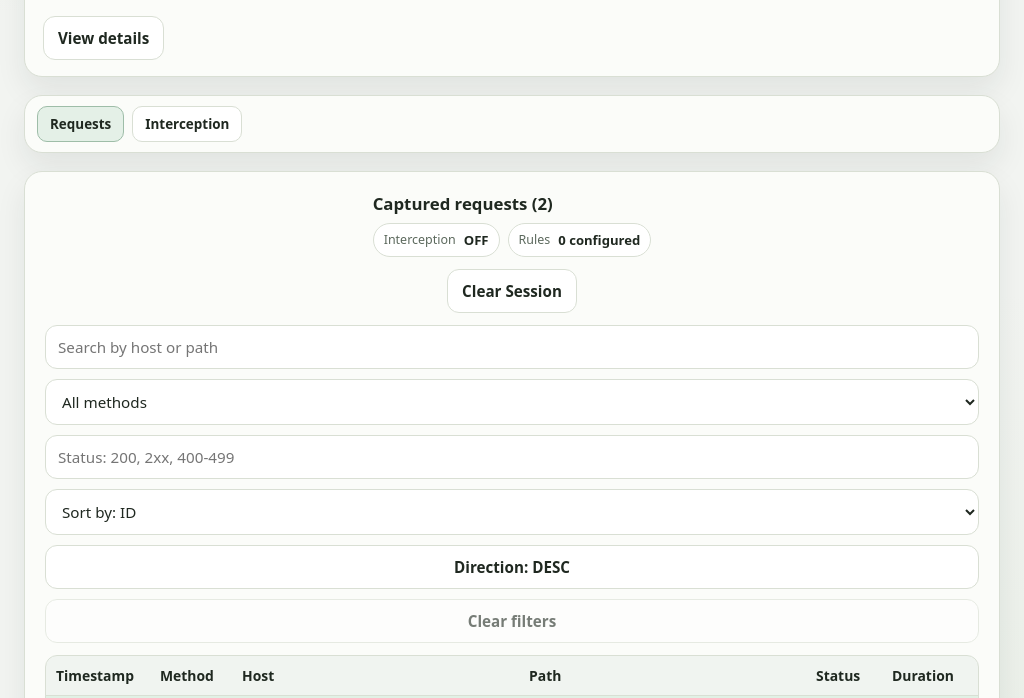
Test: App › applies combined filters and allows clearing them
(page scrolled)
Type "auth" into the field named "Host/path text filter" at x=512, y=347, box [45,325,979,369]
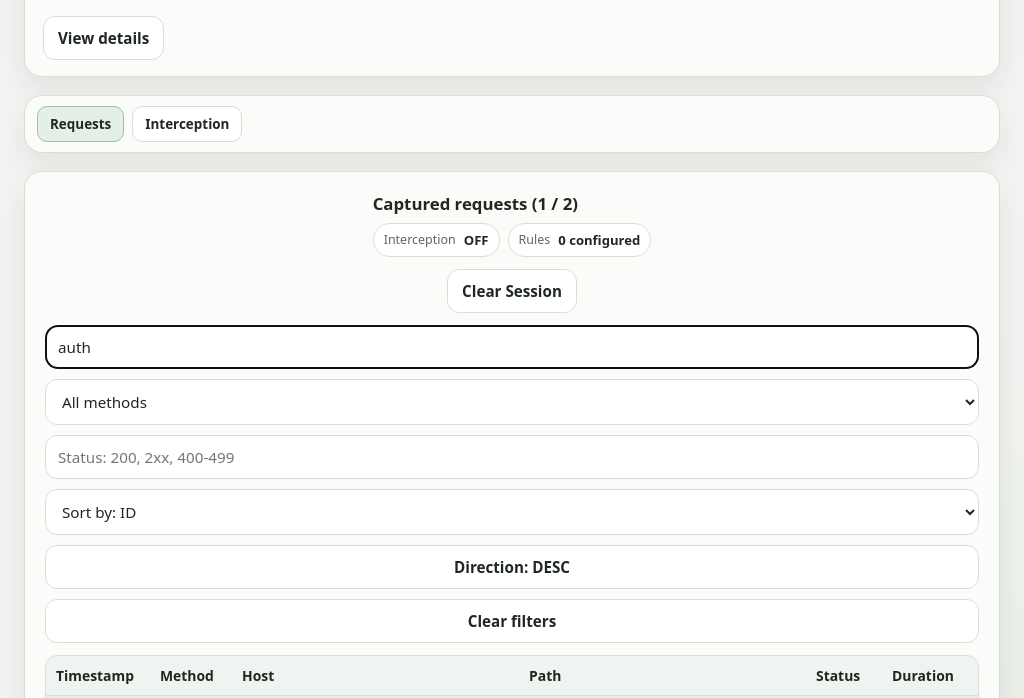
Select "POST" in the dropdown named "HTTP method filter" at x=512, y=402, box [45,379,979,425]
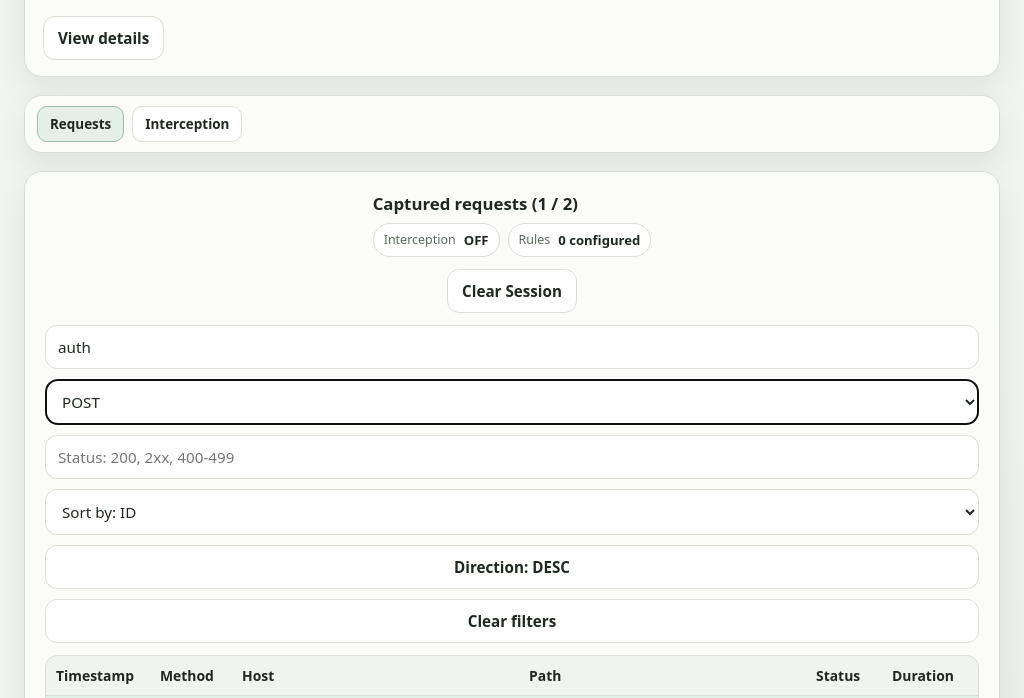
Type "401" into the field named "Status code filter" at x=512, y=457, box [45,435,979,479]
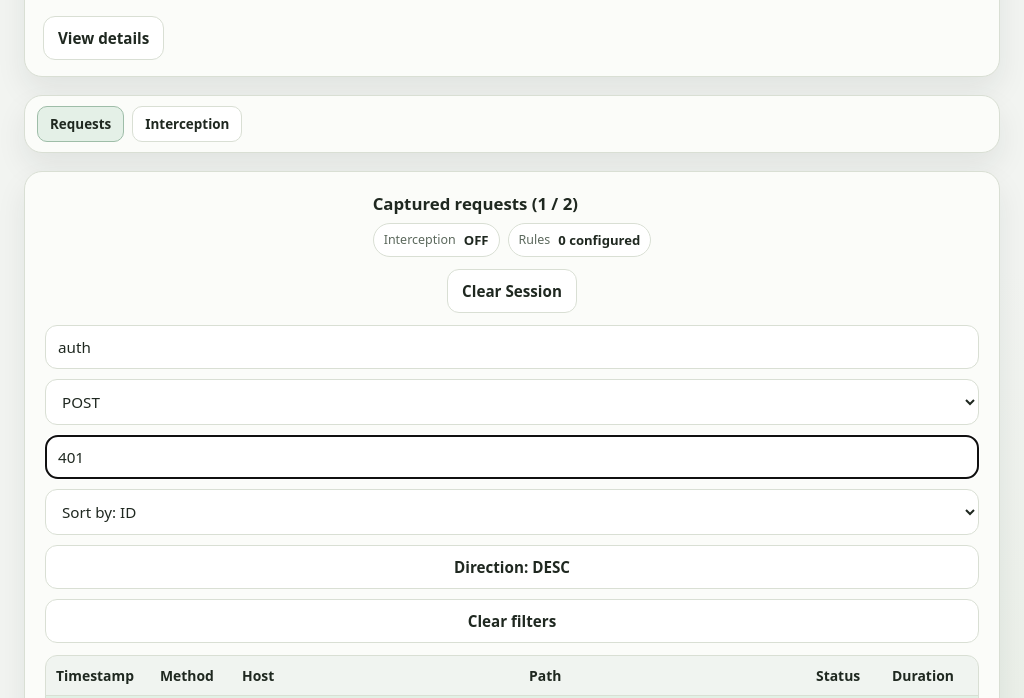
Click the button "Clear filters" at x=512, y=621, box [45,599,979,643]
(page scrolled)
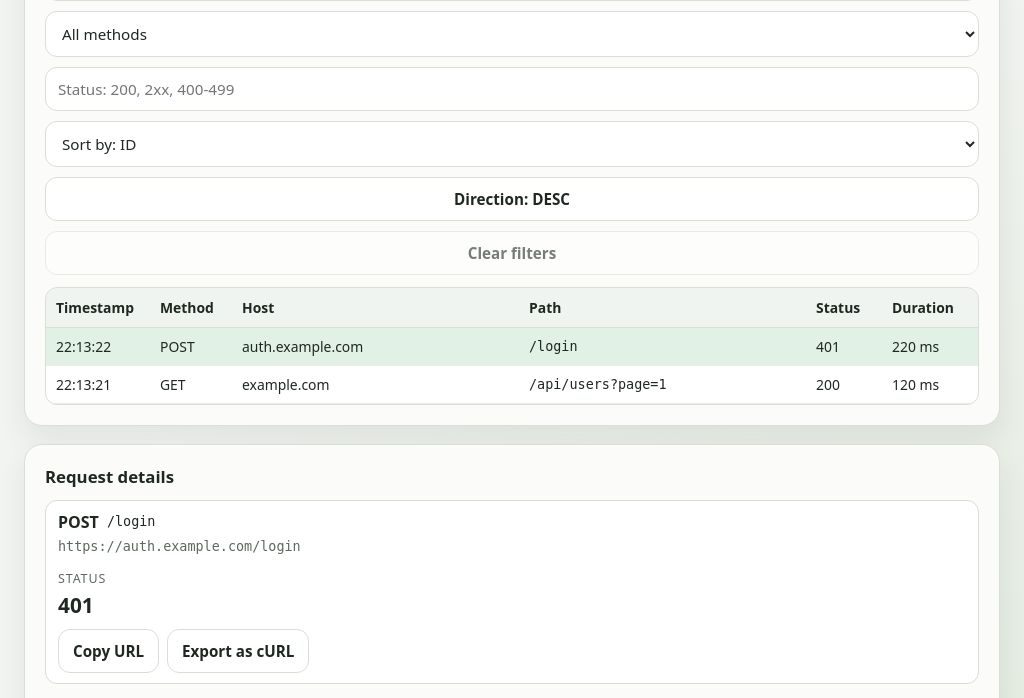
Check: the text "auth.example.com" is shown, box [232,327,519,365]
Check: the text "example.com" is shown, box [232,365,519,403]
